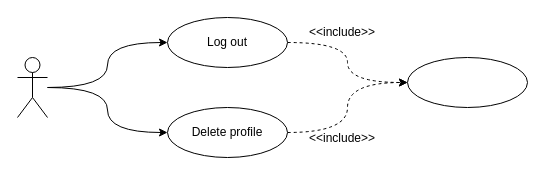
Image size: 545x175. Some labels were removed from this diagram. Each missing label, with the centre of its shape:
"Log in" belongs at (467,82).
"User" belongs at (32,87).
